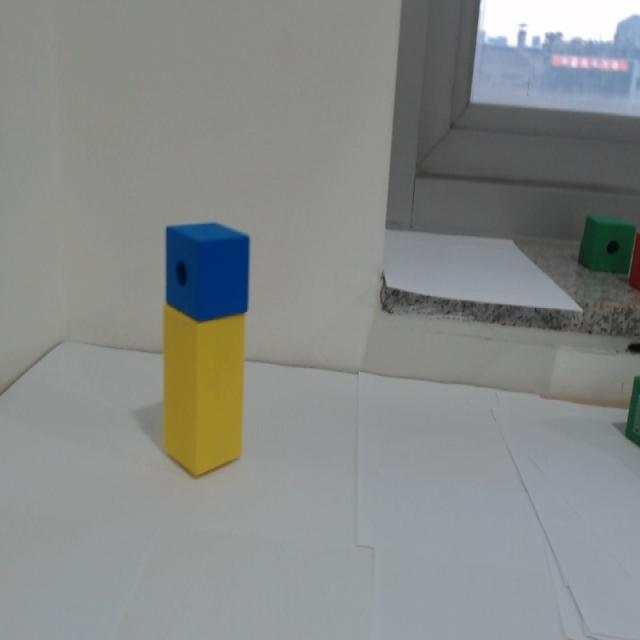cube: (164, 220, 251, 326)
